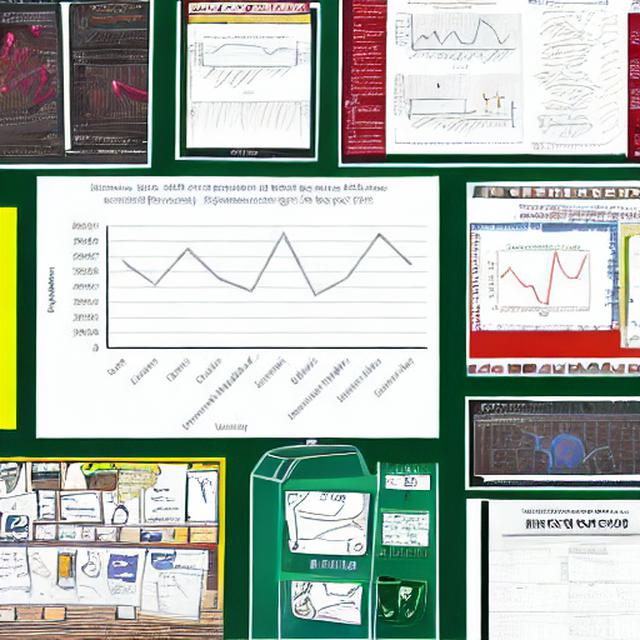Graph: (37, 179, 436, 435), (483, 234, 601, 323), (391, 0, 512, 72), (189, 34, 294, 96), (76, 3, 150, 47), (560, 549, 619, 588), (535, 106, 595, 140)
